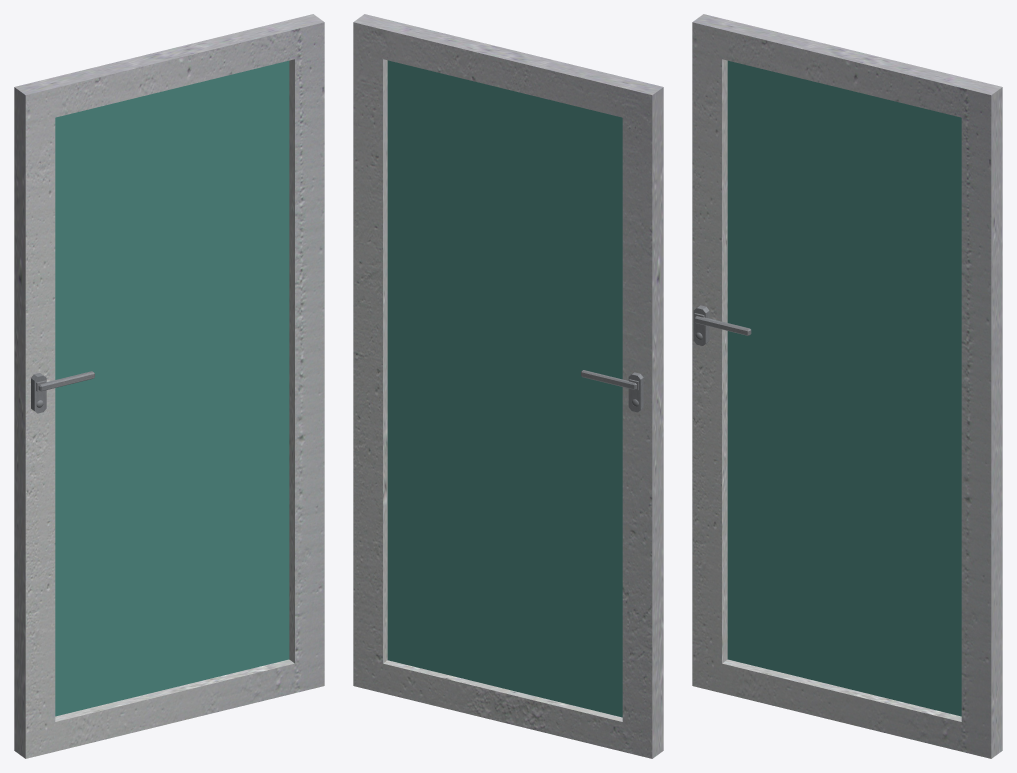
3 views of the same model, side by side, from view 1: azimuth 30°, elevation 25°; view 2: azimuth 150°, elevation 25°; view 3: azimuth 330°, elevation 25° (orthographic).
Visible parts, largest first — view 1: Door; view 2: Door; view 3: Door.
Boxes of the visible parts, box(x1,y1,x2,y2) form: Door: box(14, 14, 324, 758); Door: box(353, 14, 663, 758); Door: box(692, 14, 1002, 758).
Size of the model in its own units: 8.56 by 18.14 by 1.16.
Materials: 3 (2 with a texture image).
